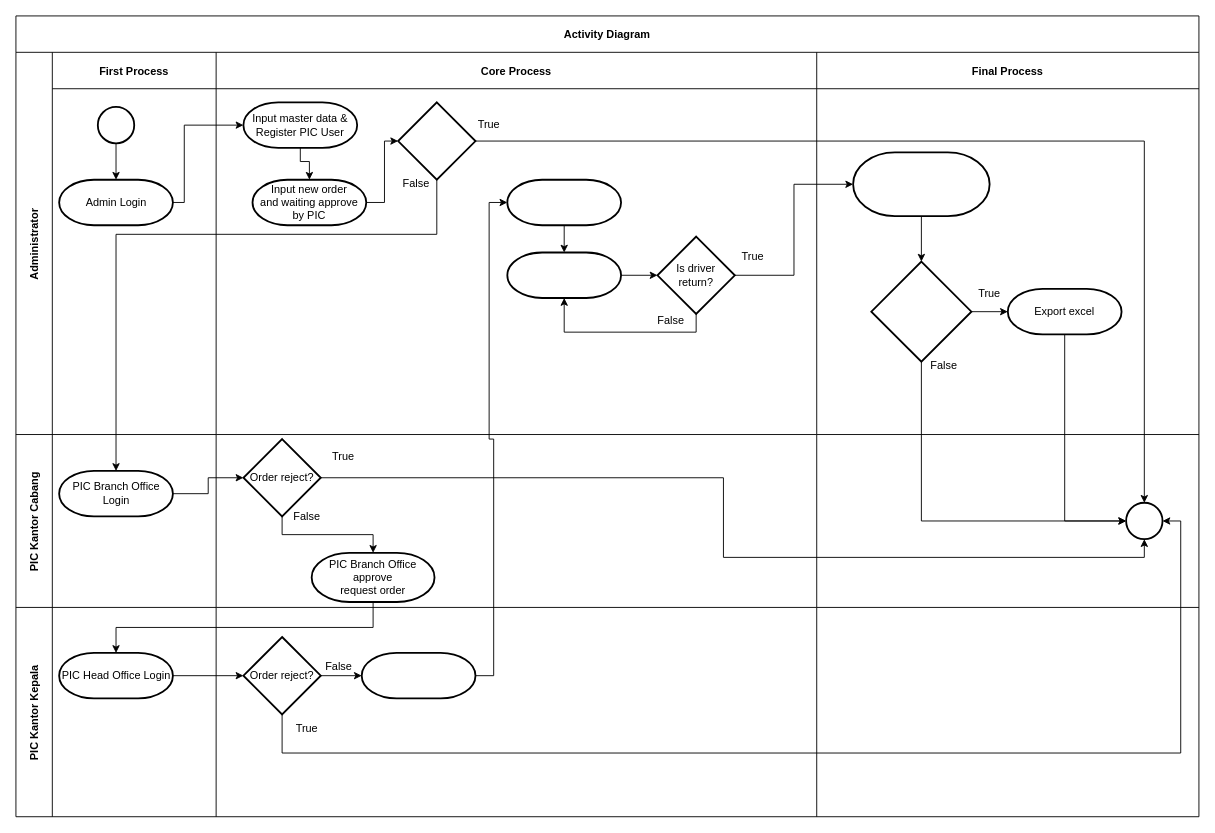
This 1215x833 diagram has some shape labels left out. Here are the shapes that lost their labels. From the top down, the box of each, then its label:
(397, 101, 476, 180): Order canceled?
(506, 178, 622, 226): Driver pick up vehicle
(852, 151, 990, 217): Driver returned vehicle and admin change status to done
(506, 251, 622, 298): Status change to release and waiting driver return
(870, 260, 972, 362): Wanna export excel?
(360, 652, 476, 699): PIC Head Office approve request order
